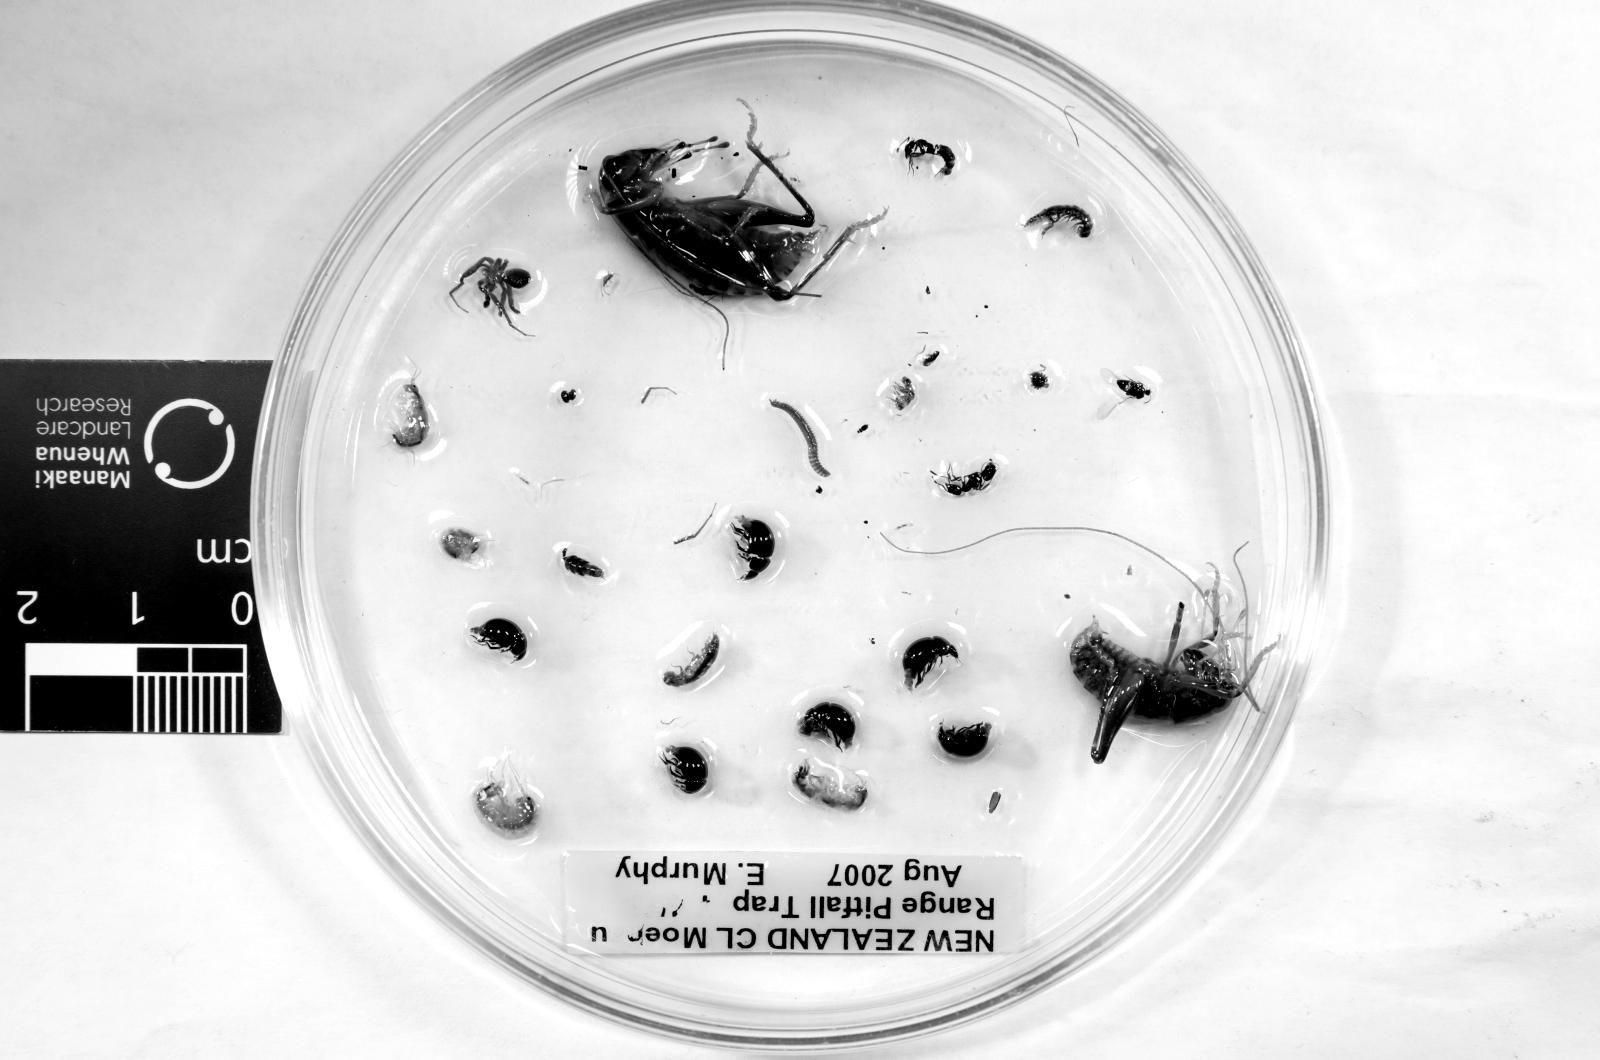amphipoda: (472, 755, 541, 838), (794, 761, 869, 811), (391, 379, 428, 450), (441, 528, 481, 559)
araneae: (450, 258, 531, 323)
coleoptera: (797, 702, 856, 752), (903, 637, 959, 689), (731, 516, 775, 581), (469, 618, 528, 661), (659, 745, 709, 792), (938, 724, 991, 758), (1116, 379, 1150, 401)
formicidae: (931, 460, 997, 497), (903, 140, 956, 177)
isopoda: (662, 634, 722, 686), (1028, 205, 1094, 239)
orthoptera: (594, 112, 888, 301), (1069, 568, 1275, 764)
